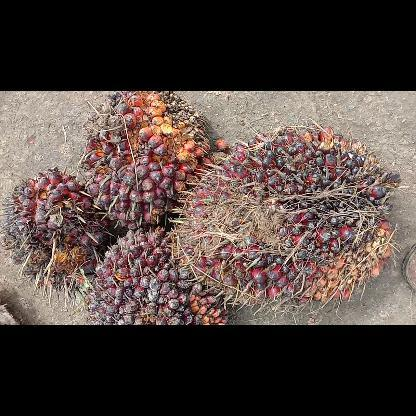Kurang masak: (164, 118, 398, 312), (84, 226, 232, 324)
TBS masak: (74, 92, 214, 230), (0, 164, 113, 307)
